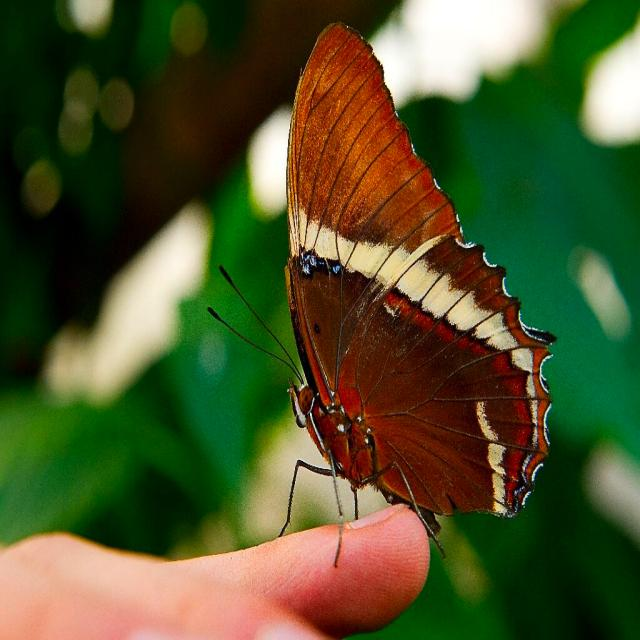butterfly: (219, 23, 556, 557), (208, 307, 280, 358)
